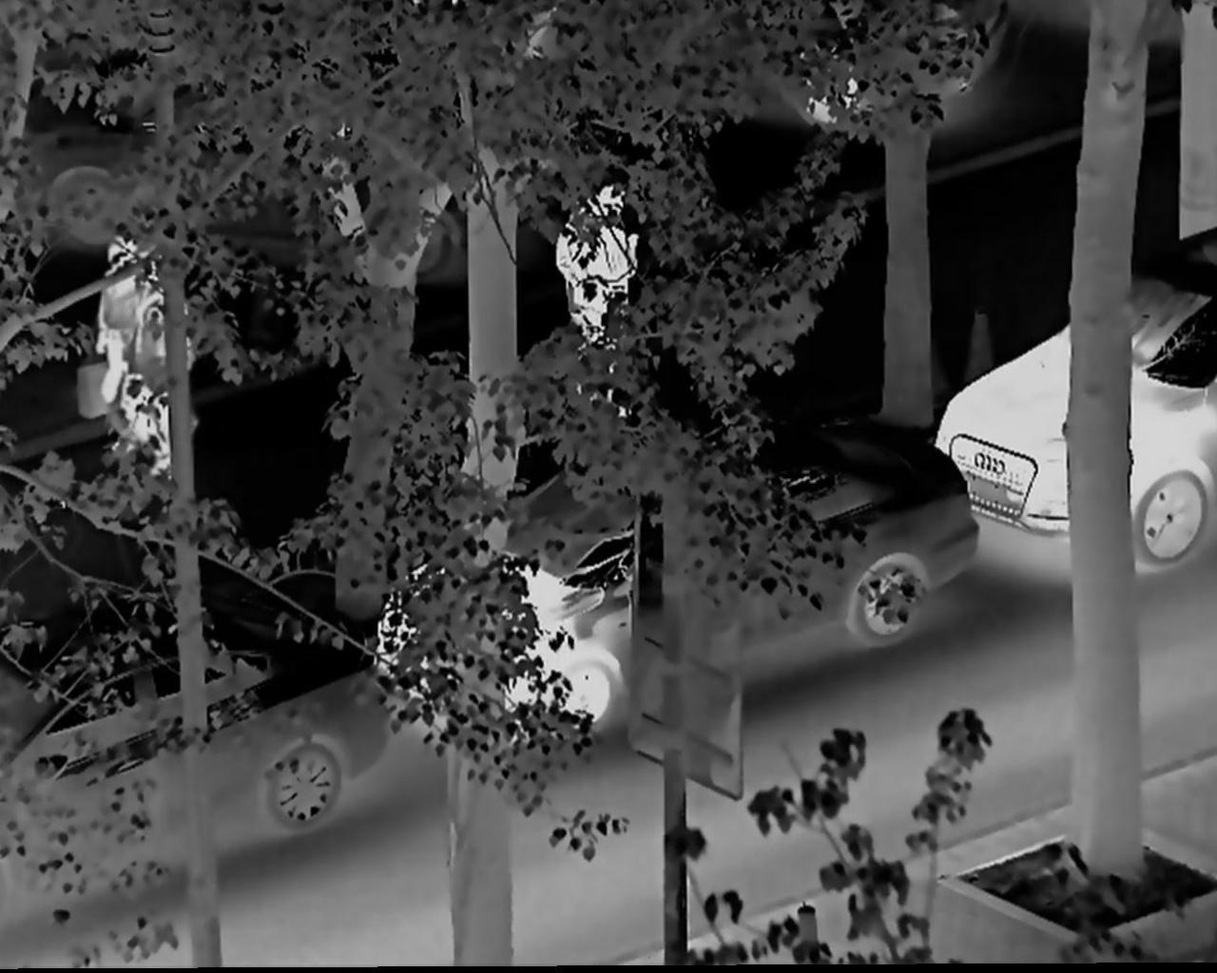person: (552, 174, 639, 372), (133, 259, 187, 474), (95, 236, 147, 441)
